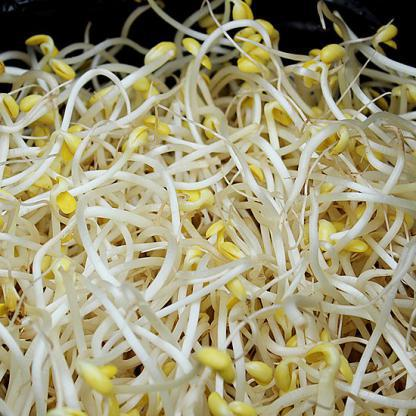bean sprouts: (4, 31, 416, 415)
